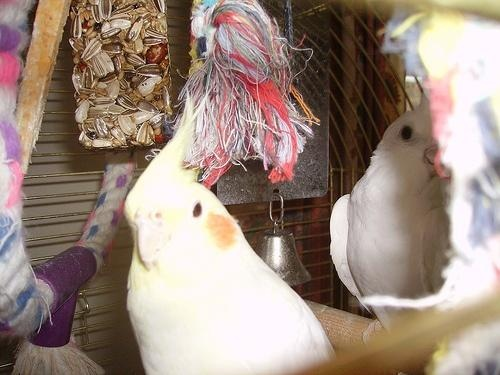bird: (118, 87, 337, 372), (329, 96, 468, 340)
